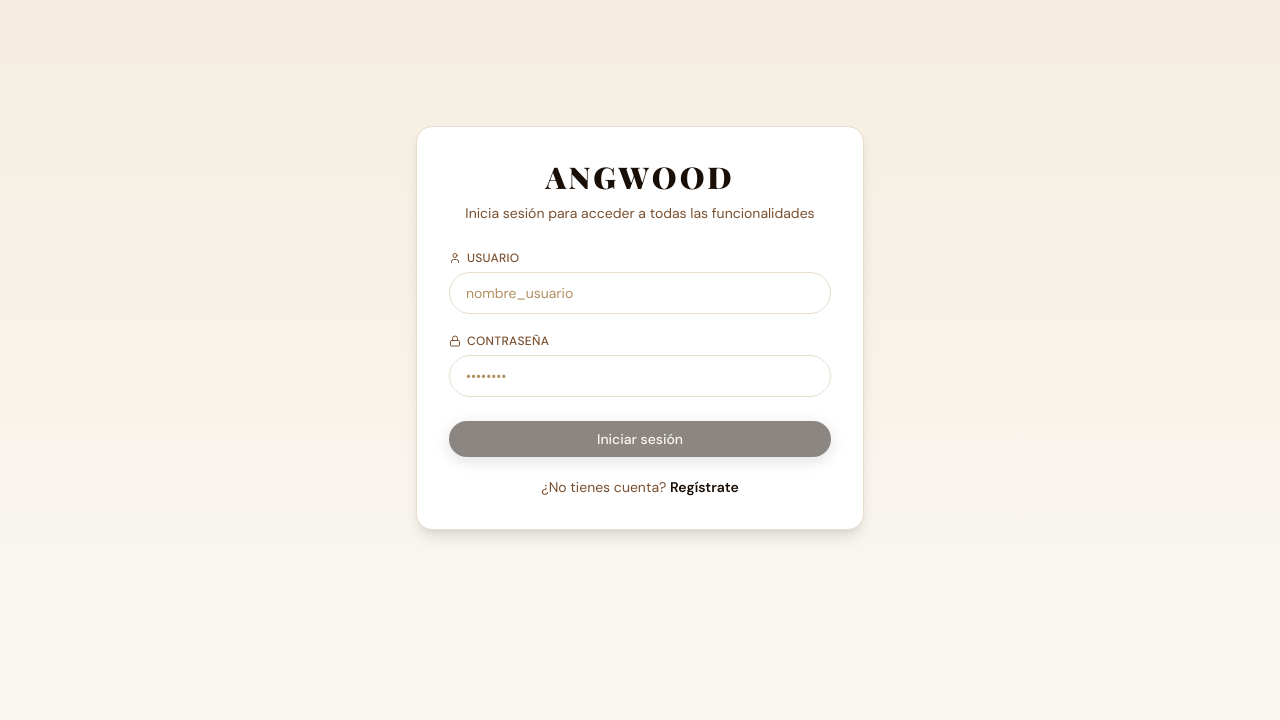
it: Login page › registra una cuenta, guarda snapshot y vuelve a login
This screenshot has width=1280, height=720.
Click the button "Regístrate" at (704, 487), box [670,477,739,497]
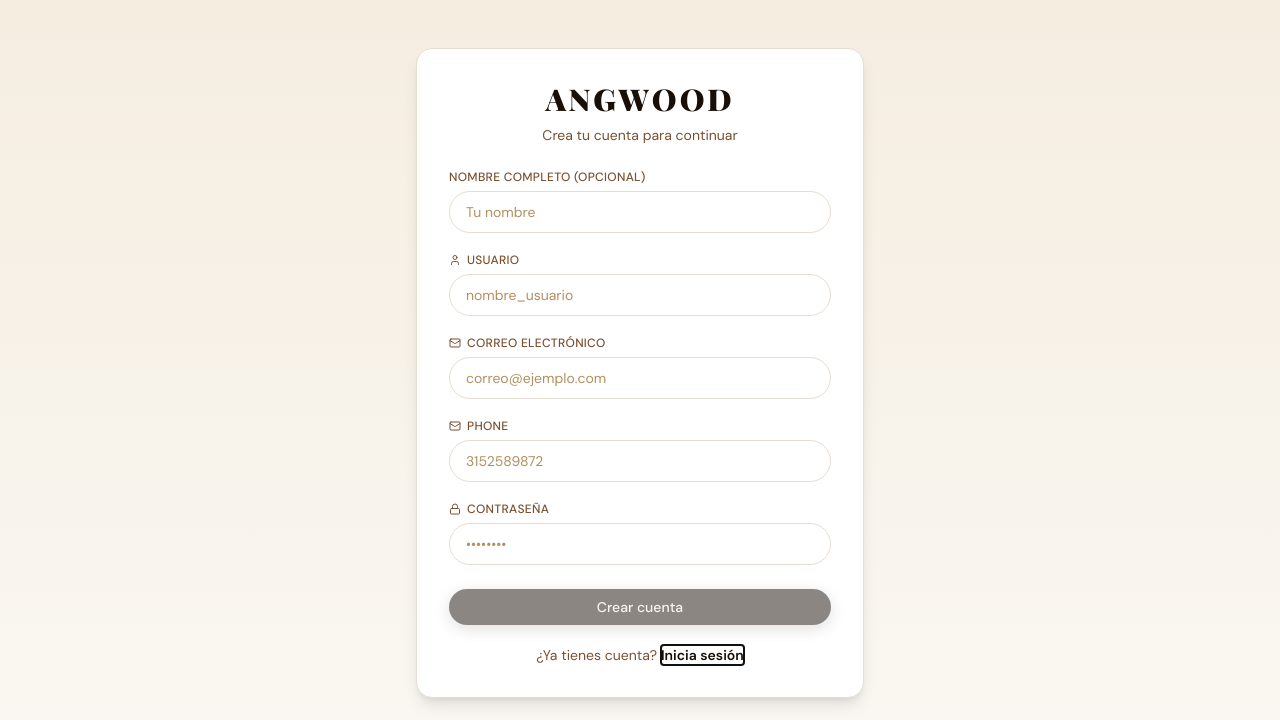
Type "Ana Pérez" into the field with placeholder "Tu nombre" at (640, 212), box [449,191,831,233]
Type "ana" into the field with placeholder "nombre_usuario" at (640, 295), box [449,274,831,316]
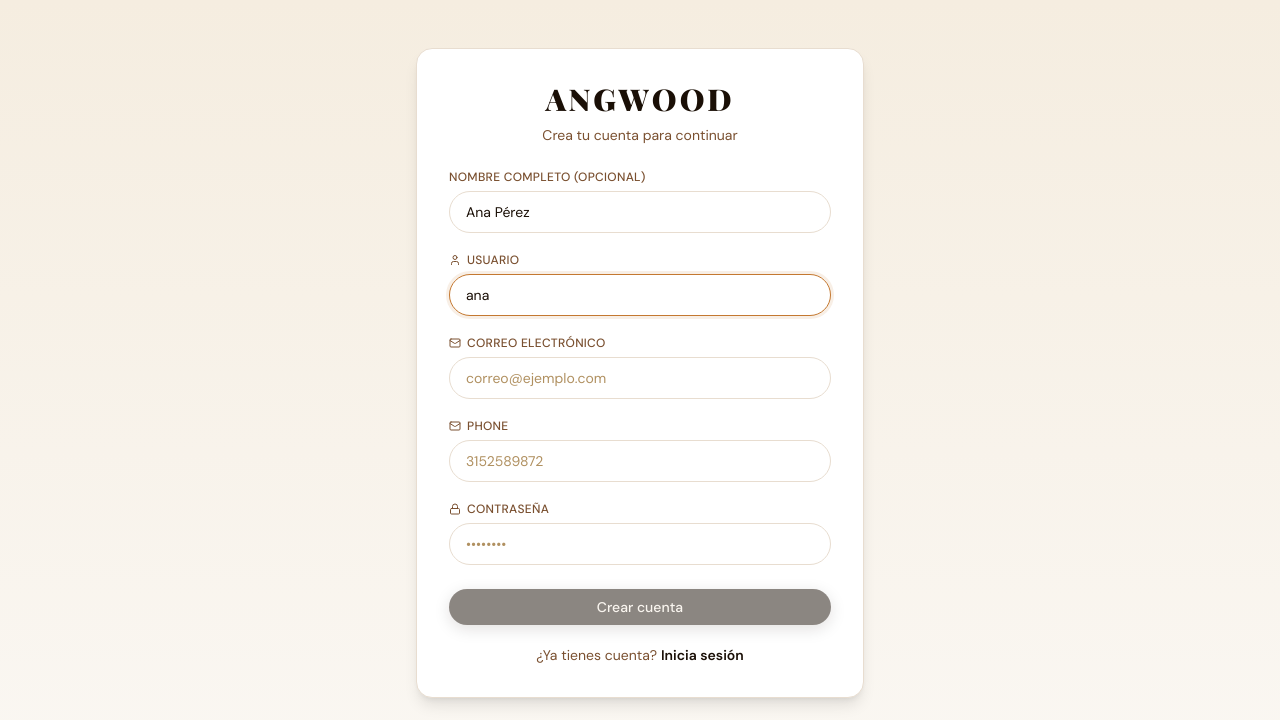
Type "ana@test.dev" into the field with placeholder "correo@ejemplo.com" at (640, 378), box [449,357,831,399]
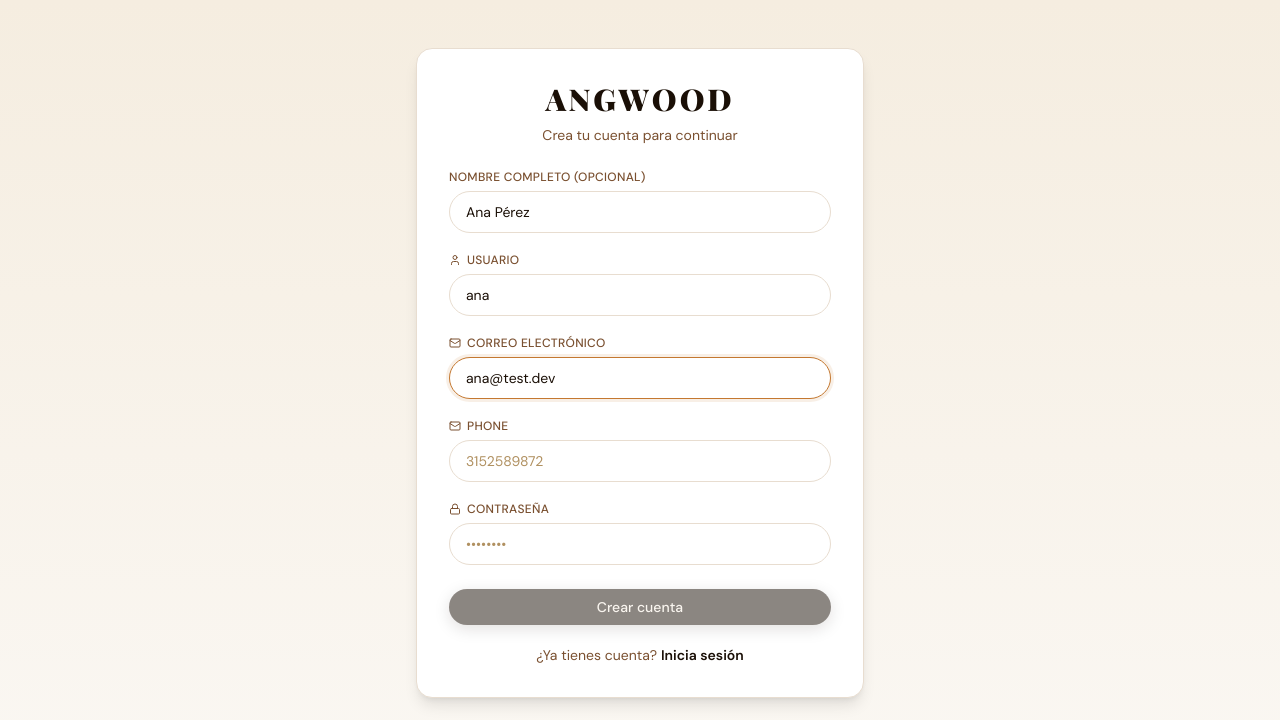
Type "3001234567" into the field with placeholder "3152589872" at (640, 461), box [449,440,831,482]
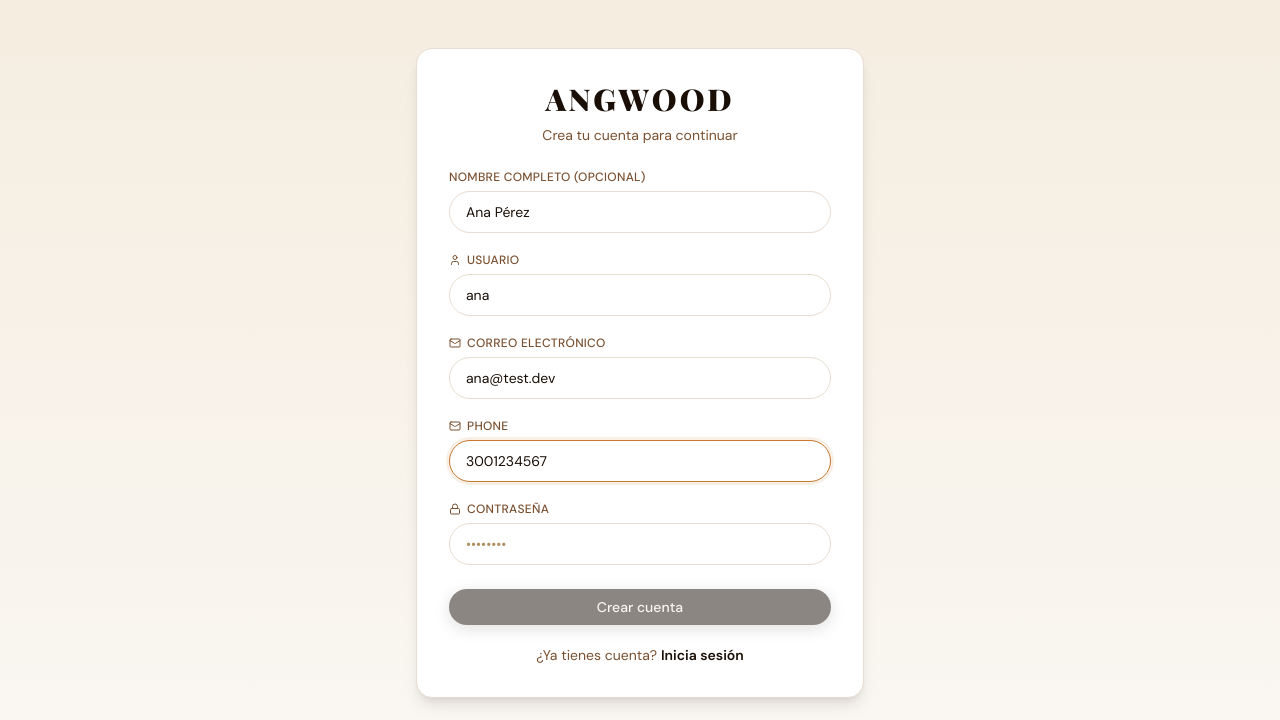
Type "secret123" into the password field with placeholder "••••••••" at (640, 544), box [449,523,831,565]
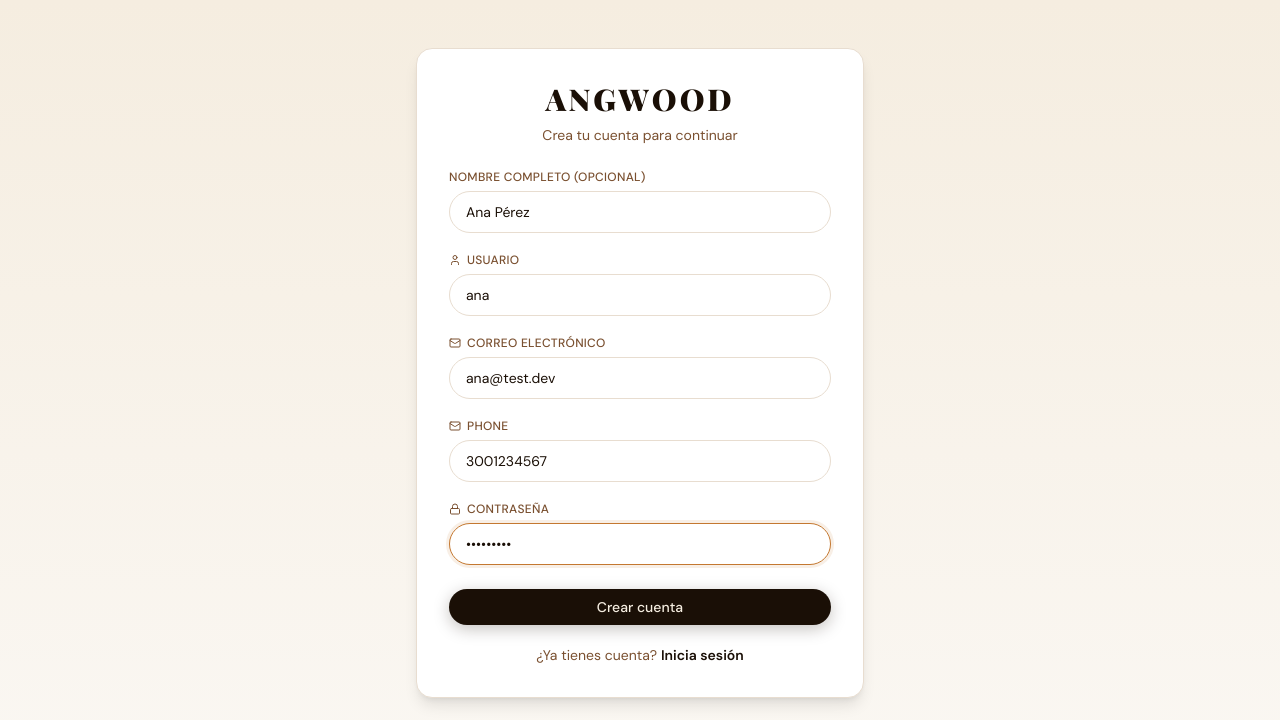
Click the button "Crear cuenta" at (640, 607), box [449,589,831,625]
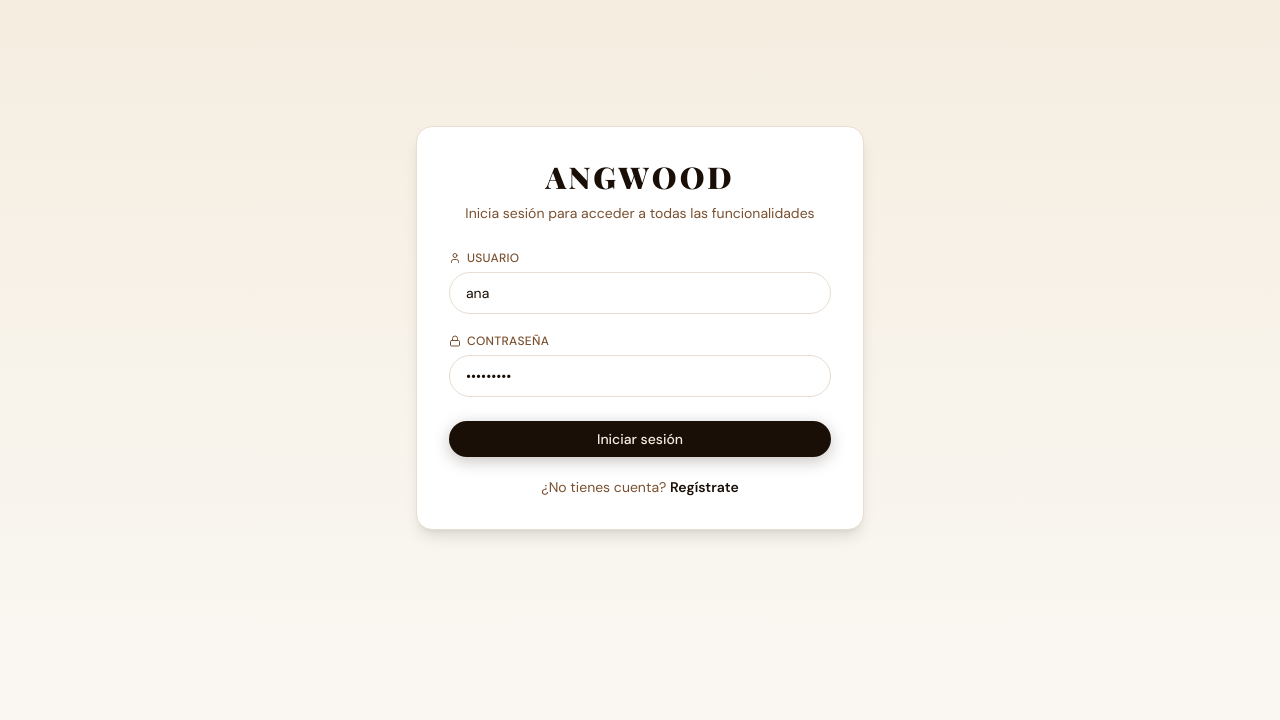
Expected: the button "Iniciar sesión" is shown, [449,421,831,457]
